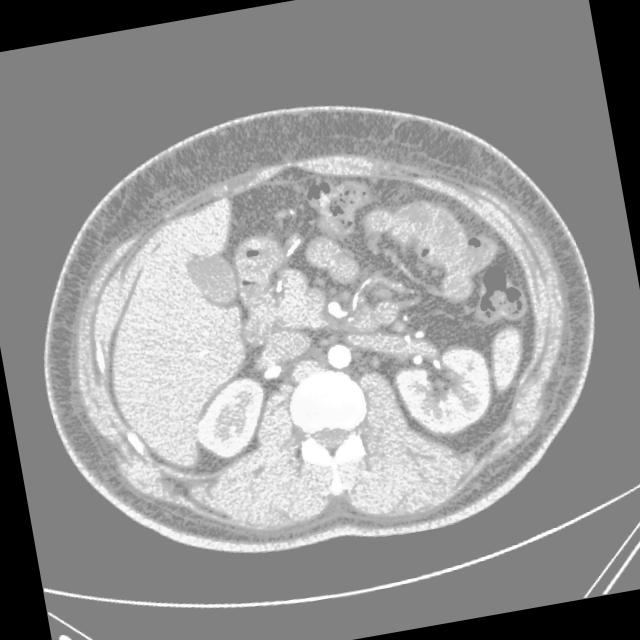NORMAL: (6, 92, 601, 580)
